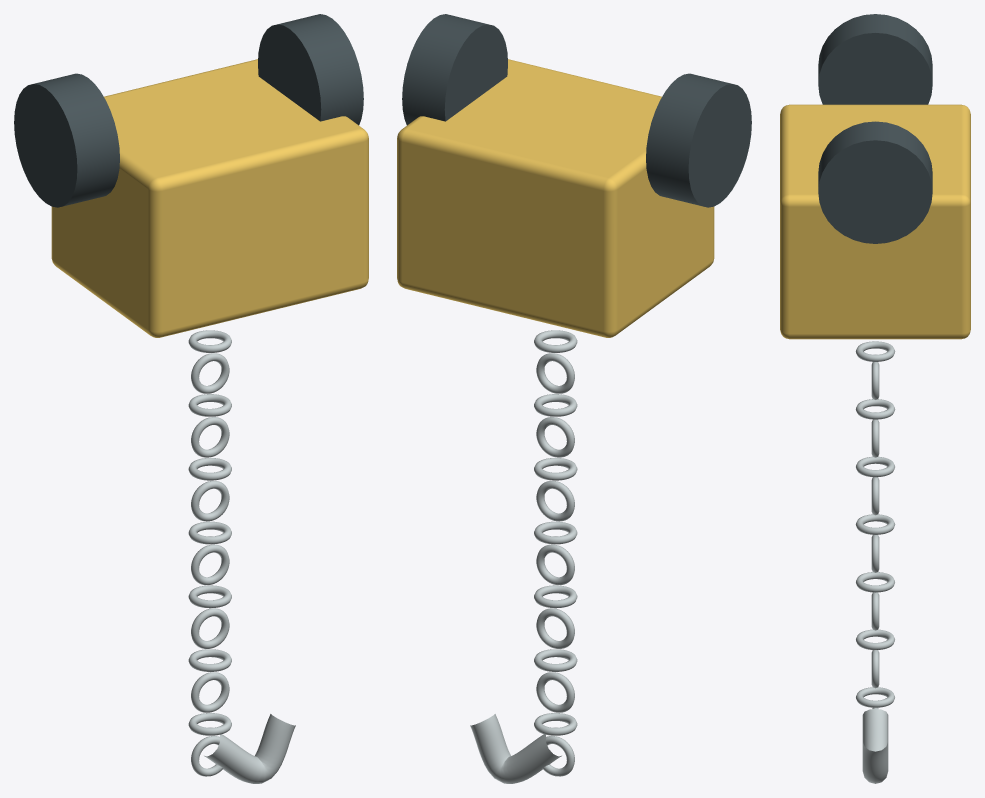
The model's file is hydroelectric-dam-infiltration-chain-hoist-1cfa1775__29357.glb.
3 views of the same model, side by side, from view 1: azimuth 30°, elevation 25°; view 2: azimuth 150°, elevation 25°; view 3: azimuth 270°, elevation 25° (orthographic). The views are drawn at different scales.
Parts seen in each view (by area): view 1: chain-hoist; view 2: chain-hoist; view 3: chain-hoist.
Boxes of the visible parts, x1,y1,x2,y2 form: chain-hoist: [14, 14, 368, 783]; chain-hoist: [397, 14, 751, 783]; chain-hoist: [780, 14, 970, 783].
Bounding box in the file's own units: 0.47 × 1.17 × 0.3.
